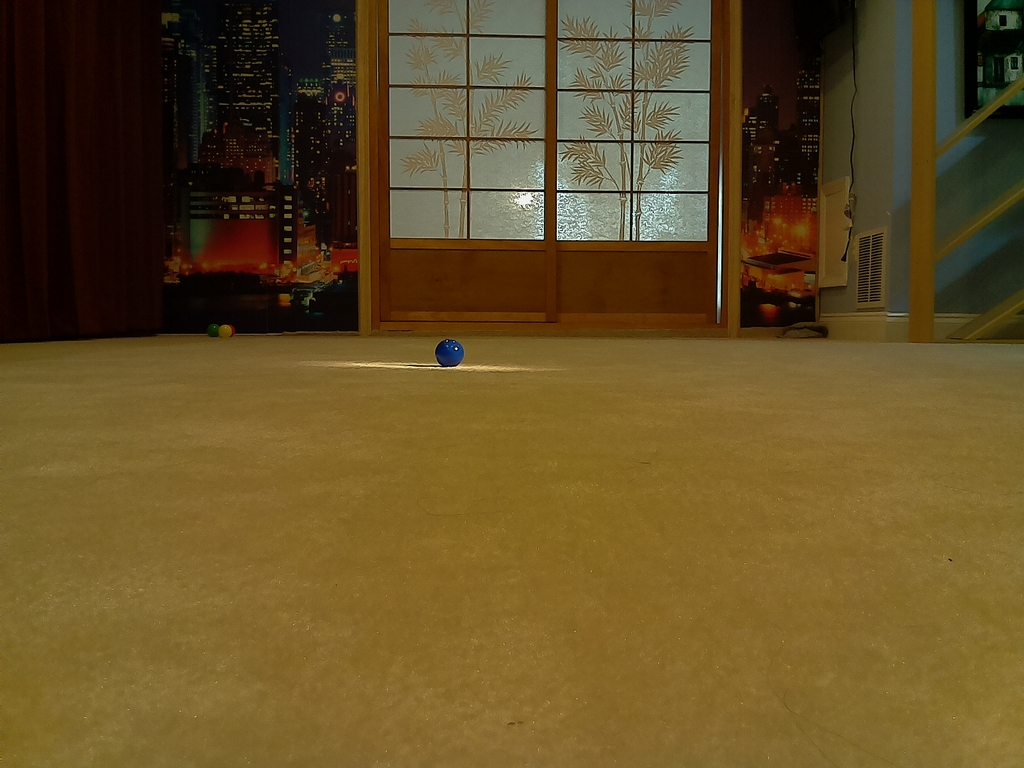ball: (435, 339, 463, 368)
